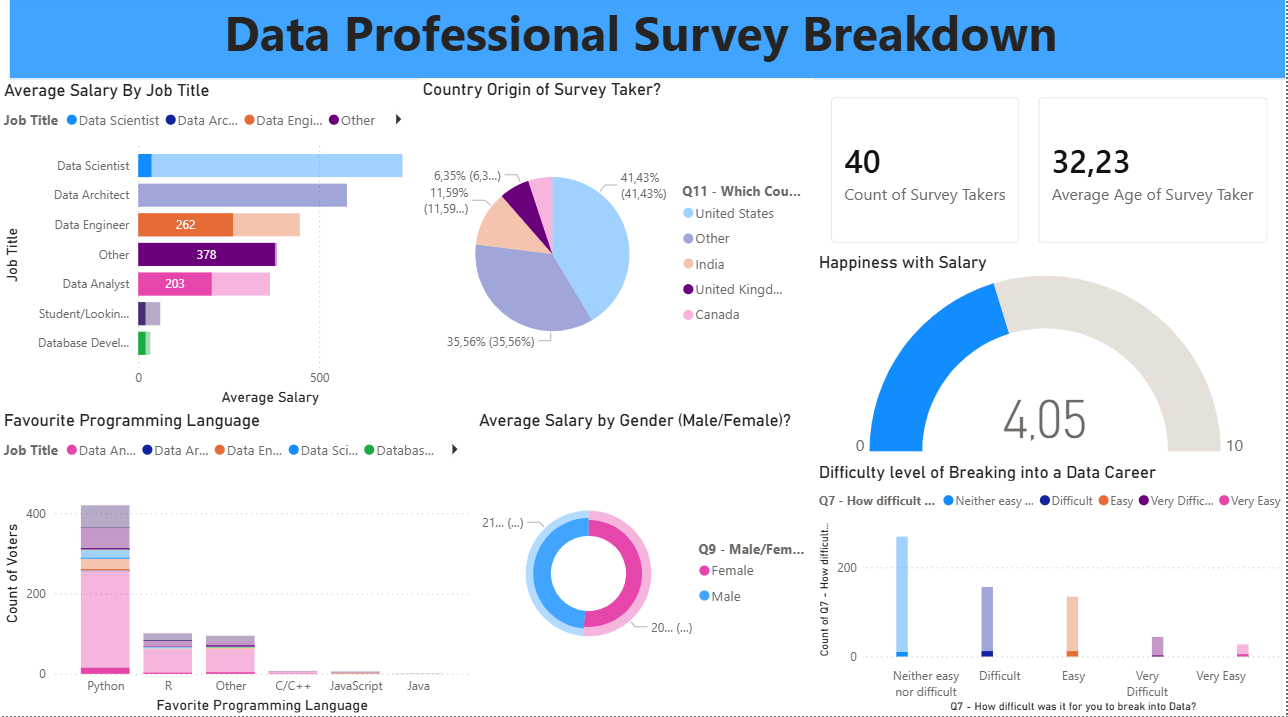

This screenshot's page, from the dashboard's own definition file:
{"tool":"powerbi","page":{"name":"Page 1","canvas":[1280,720],"ordinal":0},"visuals":[{"type":"textbox","box":[9.6,0,1270.7,85.1],"z":0},{"type":"cardVisual","fields":{"Data":["Count(Data Professional Survey.Unique ID)"]},"box":[811.1,85.8,221.4,179.1],"z":1000},{"type":"cardVisual","fields":{"Data":["Avg(Data Professional Survey.Q10 - Current Age)"]},"box":[1017.7,85.5,262.3,179.6],"z":2000},{"type":"barChart","title":"Average Salary By Job Title","fields":{"Category":["Data Professional Survey.Q1 - Which Title Best Fits your Current Role?.1"],"Y":["Avg(Data Professional Survey.Average Salary)"],"Series":["Data Professional Survey.Q1 - Which Title Best Fits your Current Role?.1"]},"box":[0,85.8,416.7,328.4],"z":3000},{"type":"columnChart","title":"Favourite Programming Language","fields":{"Category":["Data Professional Survey.Q5 - Favorite Programming Language.1"],"Y":["CountNonNull(Data Professional Survey.Unique ID)"],"Series":["Data Professional Survey.Q1 - Which Title Best Fits your Current Role?.1"]},"box":[0,414.2,472.7,306],"z":4000},{"type":"pieChart","title":"Country Origin of Survey Taker?","fields":{"Y":["CountNonNull(Data Professional Survey.Q11 - Which Country do you live in?.1)"],"Category":["Data Professional Survey.Q11 - Which Country do you live in?.1"]},"box":[416.7,84.6,394.3,329.6],"z":5000},{"type":"gauge","title":"Happiness with Salary ","fields":{"Y":["Avg(Data Professional Survey.Q6 - How Happy are you in your Current Position with the following? (Salary))"],"MinValue":["Min(Data Professional Survey.Q6 - How Happy are you in your Current Position with the following? (Salary))1"],"MaxValue":["Max(Data Professional Survey.Q6 - How Happy are you in your Current Position with the following? (Salary))2"]},"box":[811.1,256.3,469,209],"z":6000},{"type":"clusteredColumnChart","title":"Difficulty level of Breaking into a Data Career","fields":{"Series":["Data Professional Survey.Q7 - How difficult was it for you to break into Data?"],"Y":["CountNonNull(Data Professional Survey.Q7 - How difficult was it for you to break into Data?)"],"Category":["Data Professional Survey.Q7 - How difficult was it for you to break into Data?"]},"box":[811.1,465.2,469,255],"z":7000},{"type":"donutChart","title":"Average Salary by Gender (Male/Female)?","fields":{"Category":["Data Professional Survey.Q9 - Male/Female?"],"Y":["Avg(Data Professional Survey.Average Salary)"]},"box":[472.7,414.2,338.4,306],"z":8000}]}

Visuals, with their boxes in screenshot pixels (x1, y1, x2, y2), scaled from the page's 1280x720 canvas onto the 1288x717 screenshot:
textbox: box(10, 0, 1287, 85)
cardVisual - Count(Data Professional Survey.Unique ID): box(816, 85, 1039, 264)
cardVisual - Avg(Data Professional Survey.Q10 - Current Age): box(1024, 85, 1287, 264)
"Average Salary By Job Title" barChart: box(0, 85, 419, 412)
"Favourite Programming Language" columnChart: box(0, 412, 476, 716)
"Country Origin of Survey Taker?" pieChart: box(419, 84, 816, 412)
"Happiness with Salary " gauge: box(816, 255, 1287, 463)
"Difficulty level of Breaking into a Data Career" clusteredColumnChart: box(816, 463, 1287, 716)
"Average Salary by Gender (Male/Female)?" donutChart: box(476, 412, 816, 716)
